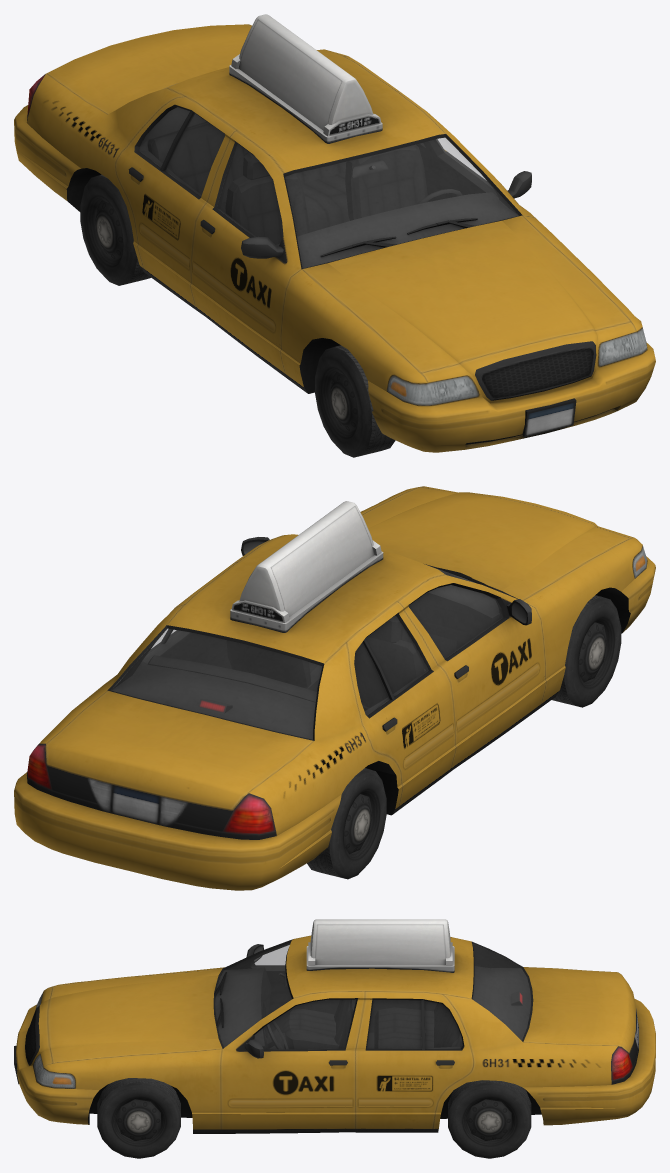
File: taxi1.glb
The picture shows the model from 3 angles, top to bottom: view 1: azimuth 30°, elevation 25°; view 2: azimuth 150°, elevation 25°; view 3: azimuth 270°, elevation 25°; orthographic projection. The views are drawn at different scales.
Parts seen in each view (by area): view 1: TaxiCar01, WheelFR, WheelBR; view 2: TaxiCar01, WheelBR, WheelFR; view 3: TaxiCar01, WheelFL, WheelBL.
Part boxes in pixels (bbox=[...]): TaxiCar01: bbox=[14, 14, 655, 452]; WheelFR: bbox=[315, 345, 395, 457]; WheelBR: bbox=[80, 174, 150, 285]; TaxiCar01: bbox=[14, 486, 655, 890]; WheelBR: bbox=[307, 768, 386, 879]; WheelFR: bbox=[552, 595, 621, 707]; TaxiCar01: bbox=[14, 919, 655, 1133]; WheelFL: bbox=[97, 1078, 180, 1158]; WheelBL: bbox=[448, 1080, 531, 1158].
Bounding box in the file's own units: 2.09 × 1.78 × 5.37.
Materials: 2 (2 with a texture image).
